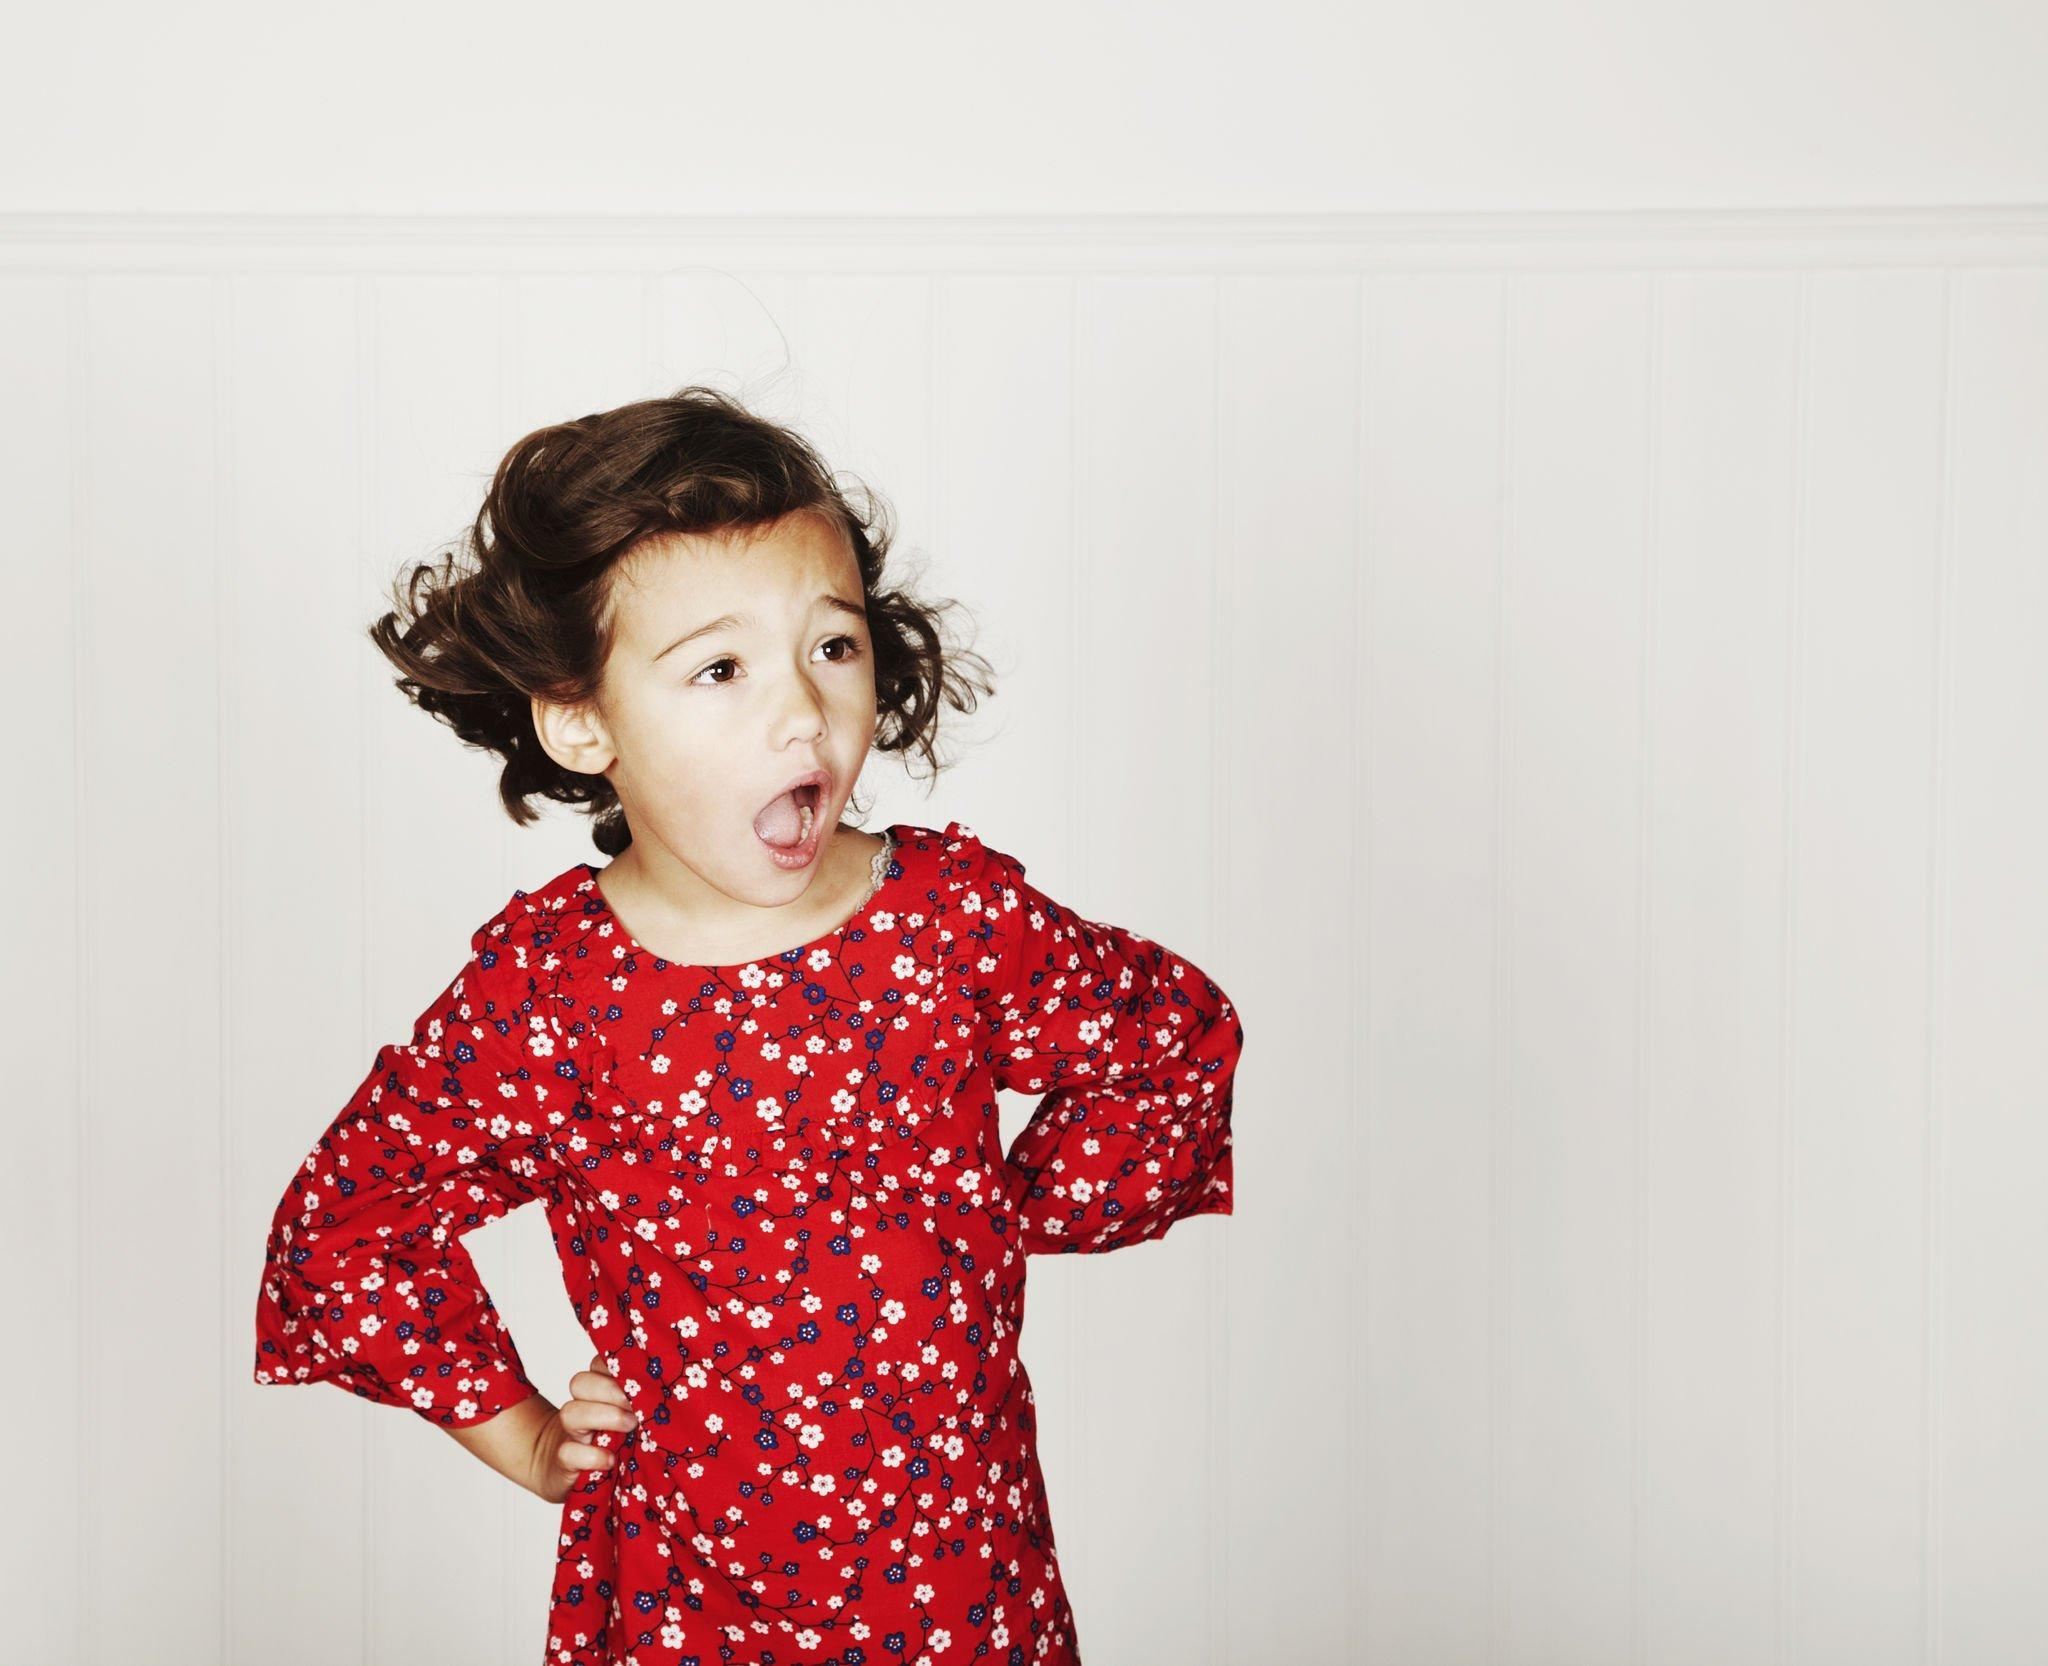Healthy: (500, 439, 959, 909)
